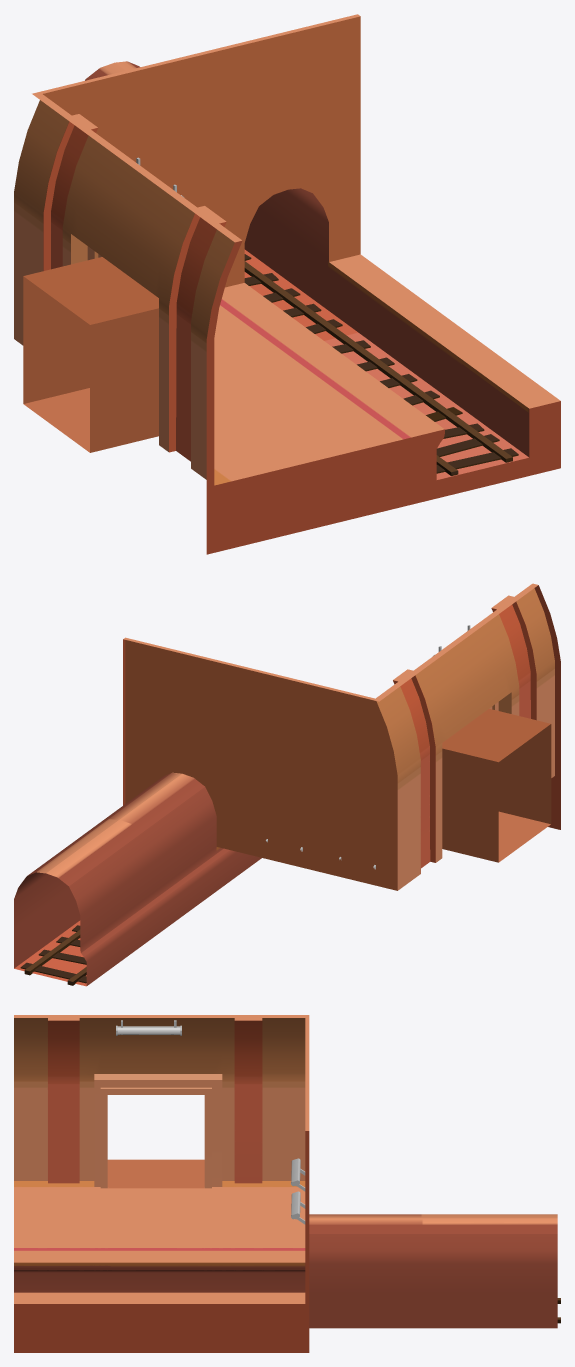
File: station 8.fbx
The picture shows the model from 3 angles, top to bottom: view 1: azimuth 30°, elevation 25°; view 2: azimuth 150°, elevation 25°; view 3: azimuth 270°, elevation 25°; orthographic projection. The views are drawn at different scales.
Visible parts, largest first — view 1: env_7, track_11; view 2: env_7, track_11; view 3: env_7, pCube84.
Boxes of the visible parts, x1,y1,x2,y2 form: env_7: [14, 14, 560, 554]; track_11: [244, 254, 518, 475]; env_7: [14, 583, 560, 986]; track_11: [20, 925, 86, 985]; env_7: [14, 1015, 557, 1352]; pCube84: [116, 1020, 181, 1035].
Size of the model in its own units: 23.18 by 16.64 by 37.16.
